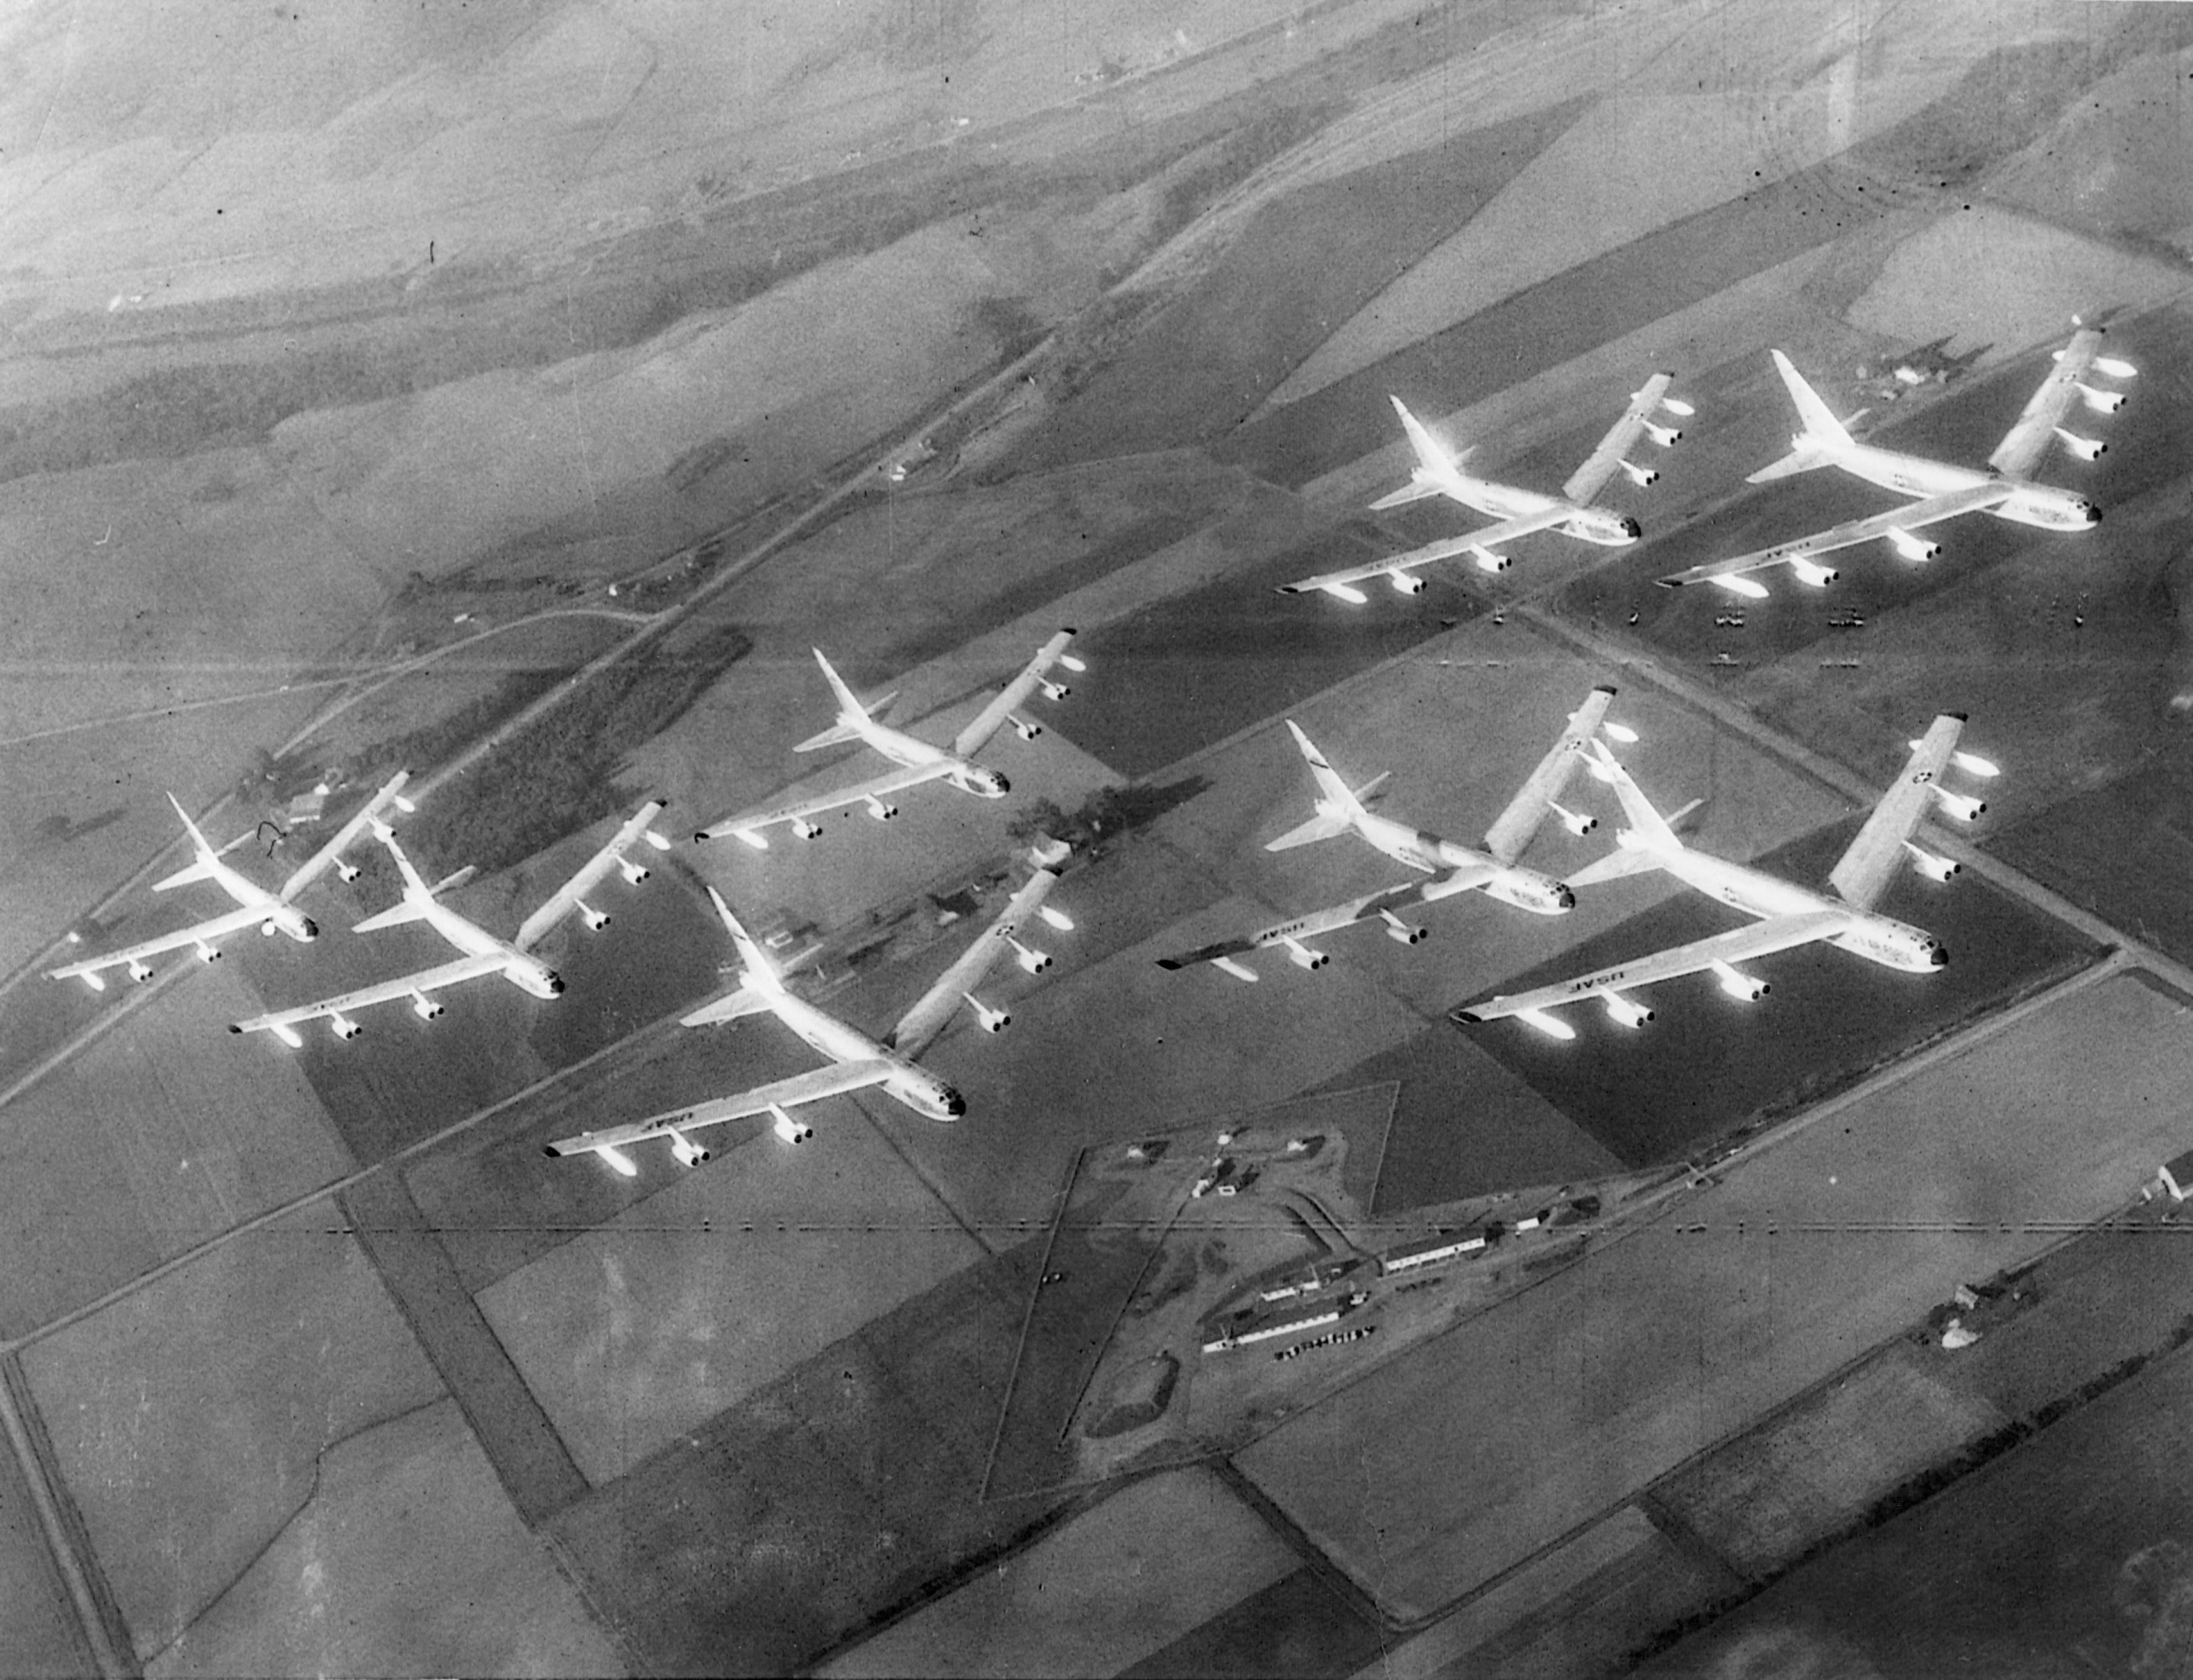B52: (1447, 709, 2001, 1039), (536, 861, 1074, 1175), (1152, 685, 1641, 983), (1650, 323, 2137, 598), (226, 796, 672, 1048), (1270, 369, 1694, 604), (693, 626, 1087, 849), (39, 764, 416, 994)
